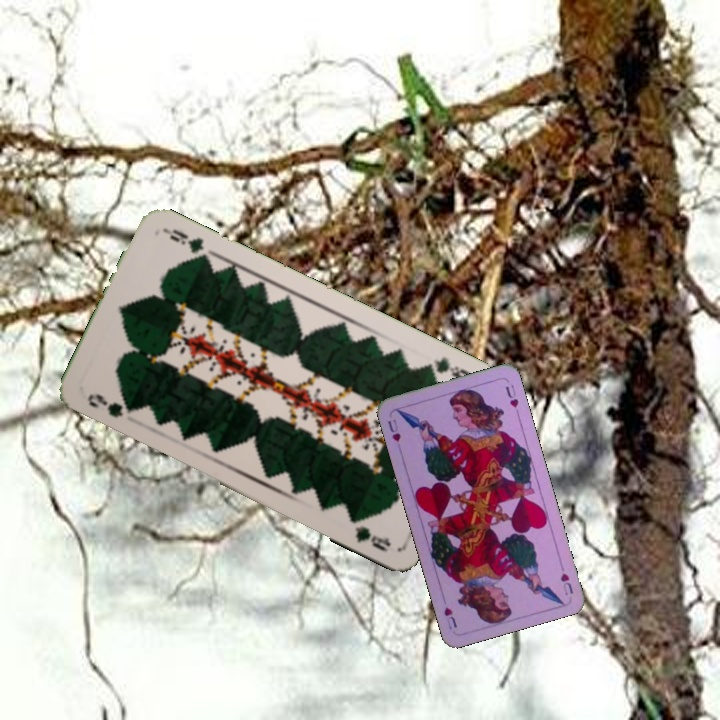G9: (418, 352, 473, 385), (83, 389, 137, 421)
HU: (556, 559, 576, 598), (384, 415, 403, 444)
